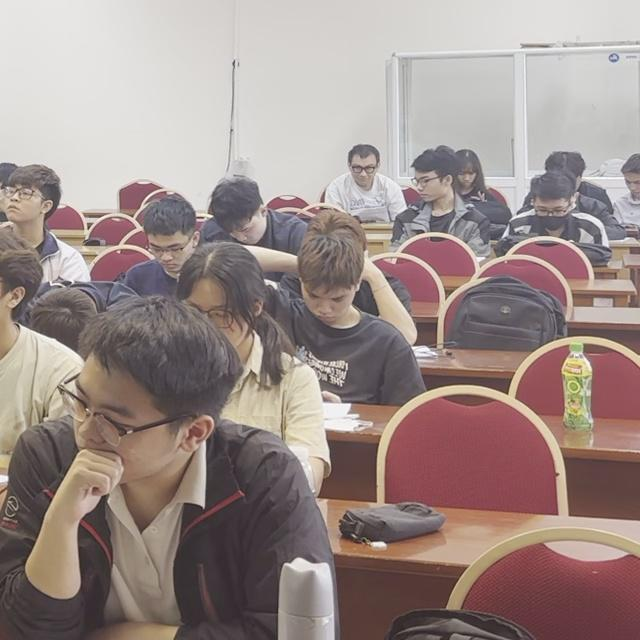Looking away: (68, 368, 173, 483), (301, 269, 360, 326), (146, 225, 193, 274), (1, 182, 46, 228), (223, 210, 270, 246), (534, 196, 570, 232), (413, 167, 444, 203), (348, 156, 379, 189), (453, 166, 478, 189)
